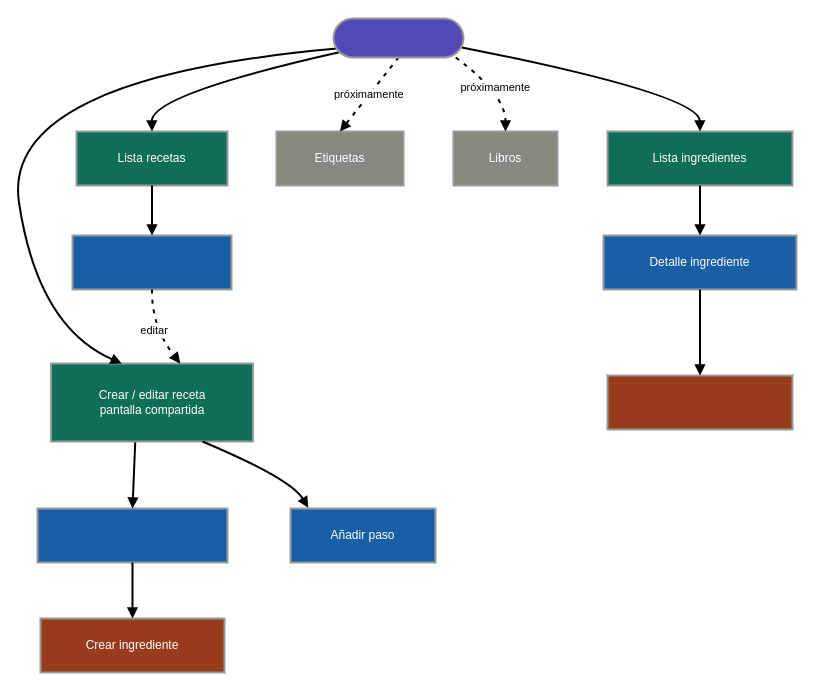
Image size: 815x690. Some labels were removed from this diagram. The centre of each missing label's shape, as x and y in pixels:
"Añadir ingrediente" goes at (132,535).
"Detalle receta" goes at (151,262).
"Editar ingrediente" goes at (699,402).
"Pantalla Home" goes at (398,37).
